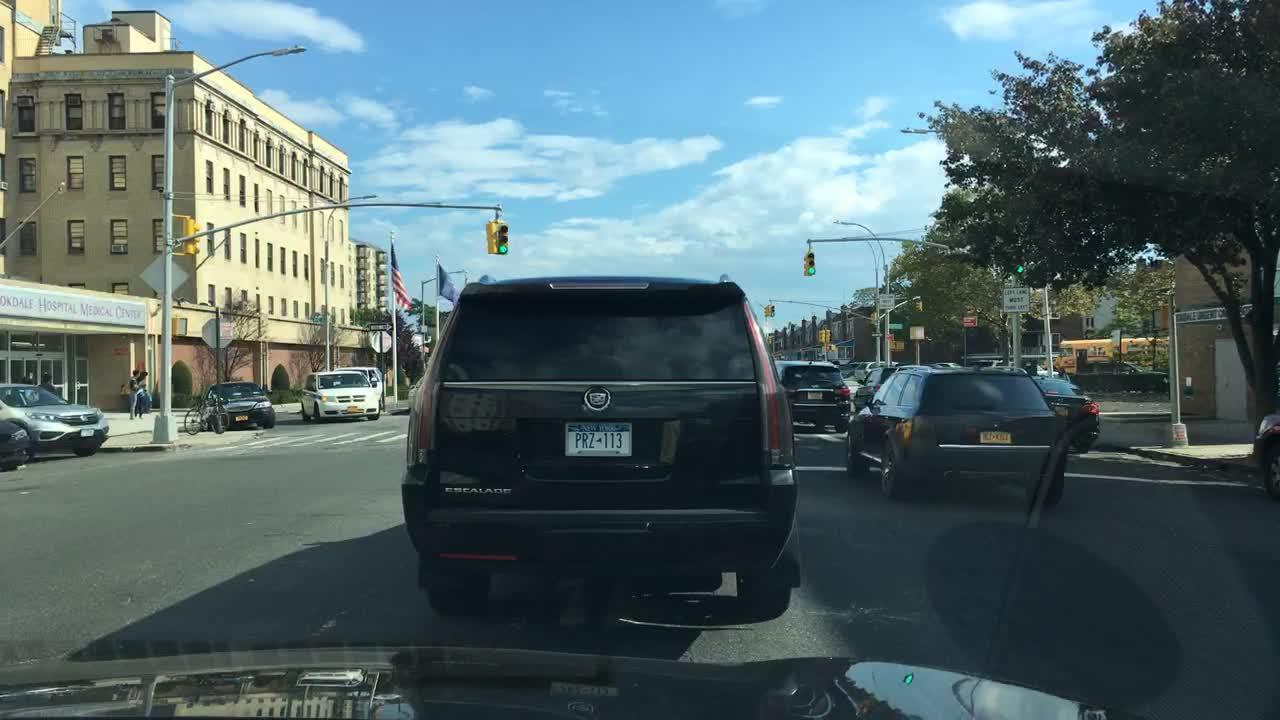cadillac: (581, 384, 614, 417)
